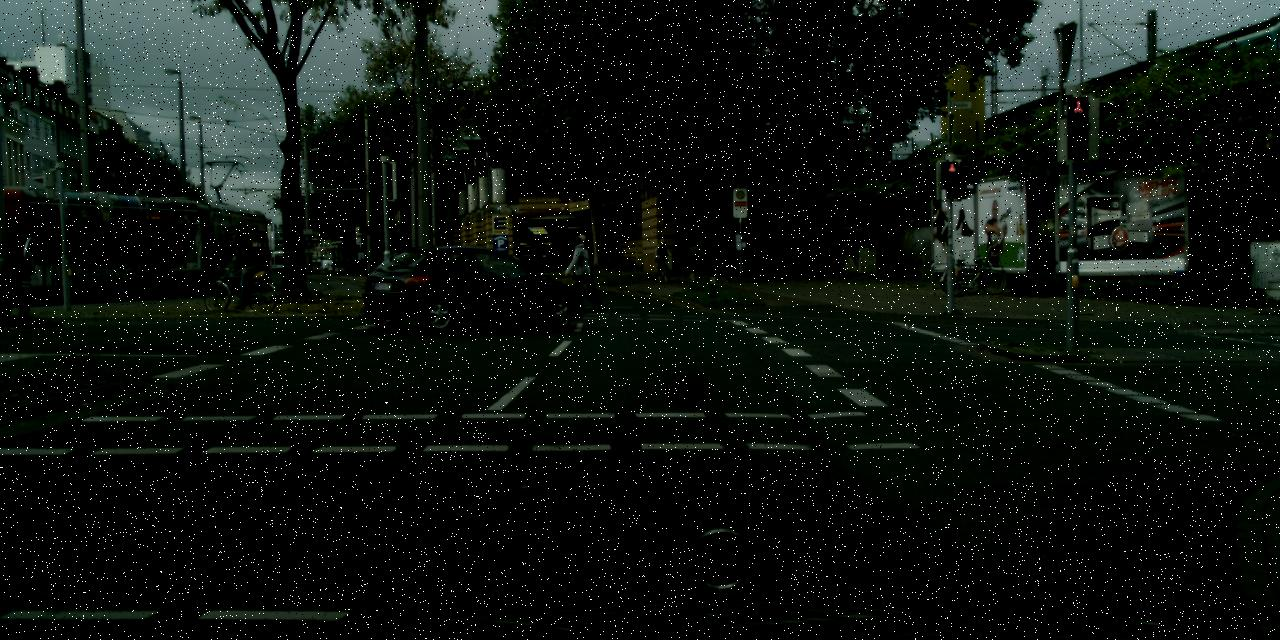ped: (567, 234, 597, 308), (565, 237, 594, 307), (228, 232, 255, 300), (746, 230, 766, 281), (723, 240, 739, 280), (655, 238, 669, 272)
